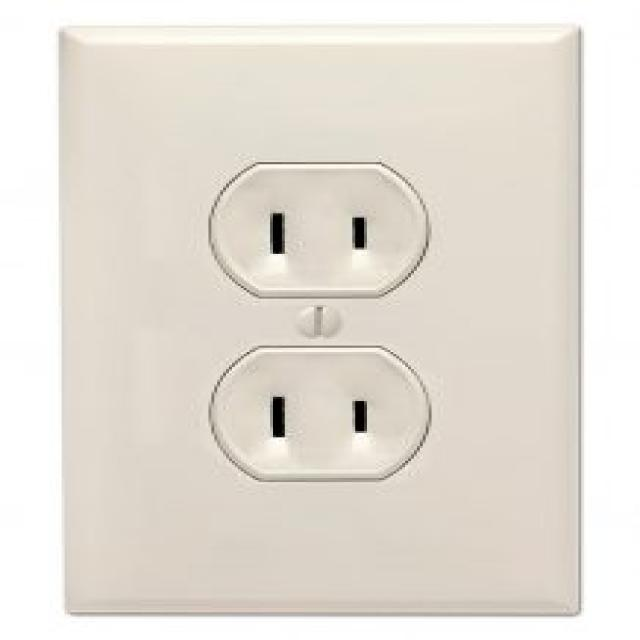type_a: (151, 162, 494, 504), (169, 146, 441, 305), (182, 340, 453, 488)
